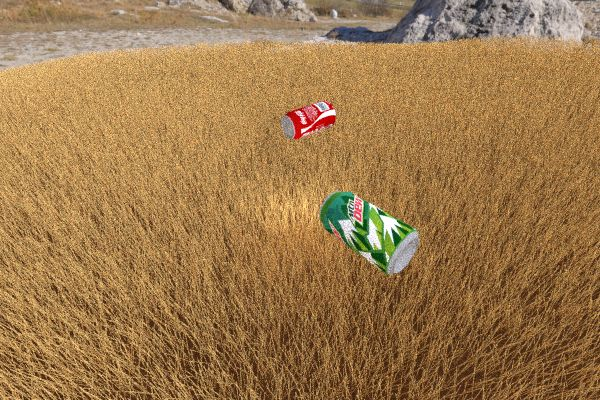Plastic Bottle: (0, 271, 130, 359), (318, 190, 419, 274), (281, 100, 335, 139)
